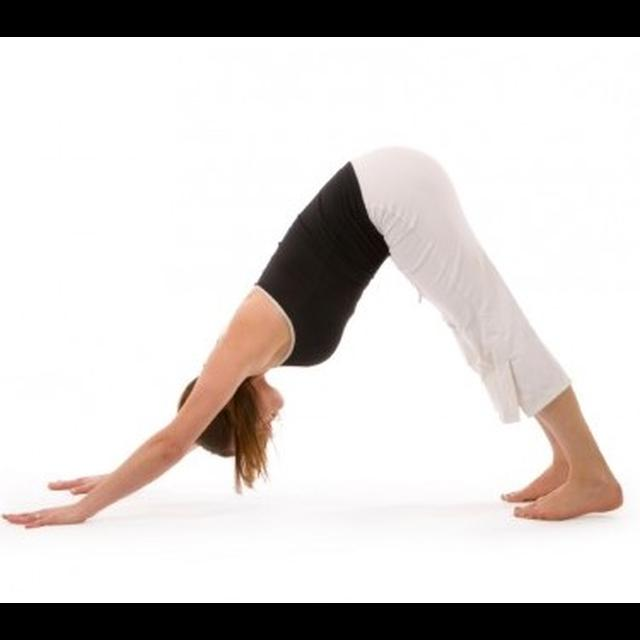Downward-Facing_Dog: (1, 138, 640, 536)
